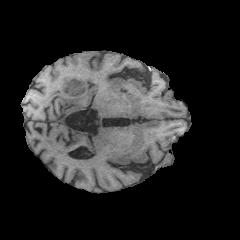glioma: (60, 74, 92, 96)
